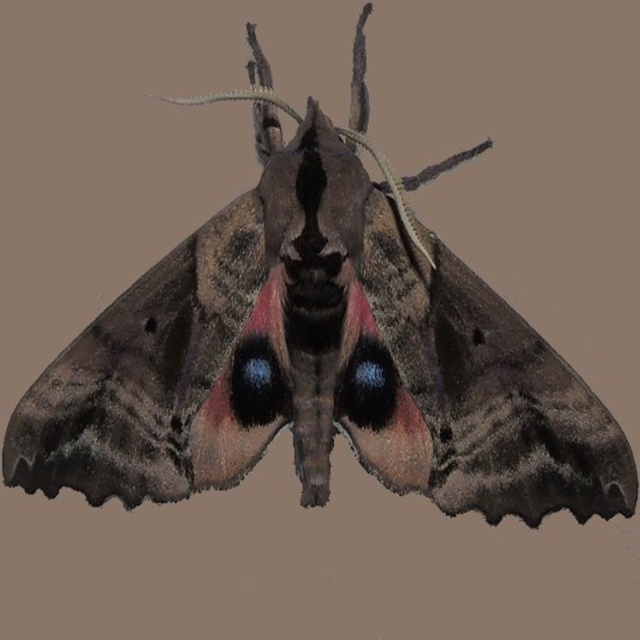Moths and butterflies: (0, 1, 639, 534)
